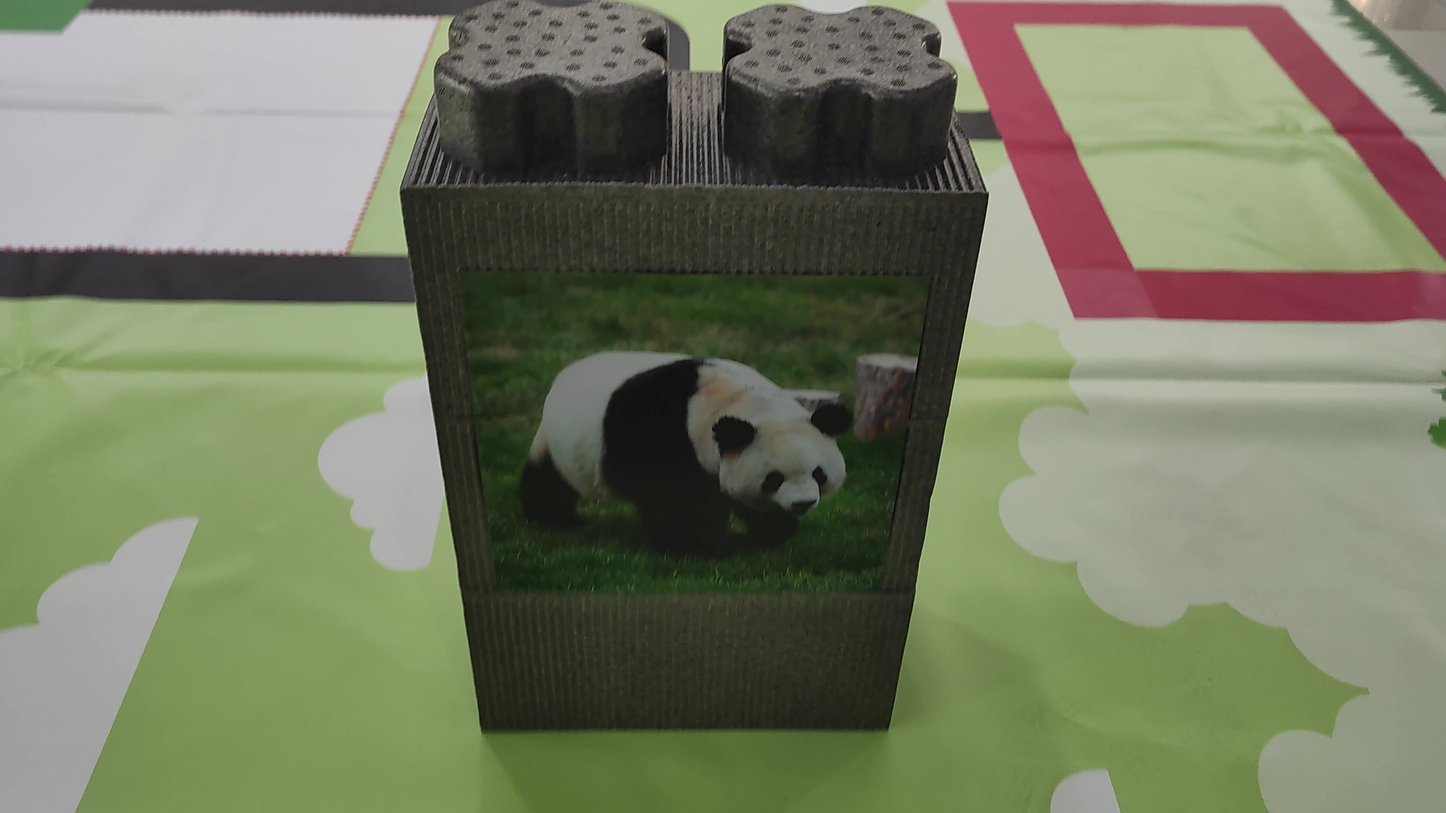panda: (481, 297, 893, 561)
